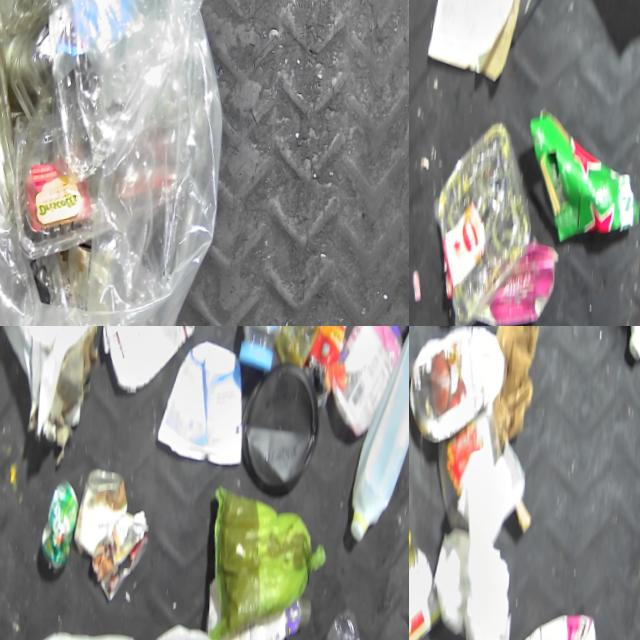can: (72, 462, 132, 568), (40, 480, 84, 578), (409, 547, 447, 640)
milk_jug: (347, 330, 409, 557), (95, 326, 211, 407)
non_white_jug: (409, 328, 509, 453)
plastic_bottle: (320, 611, 385, 640)
